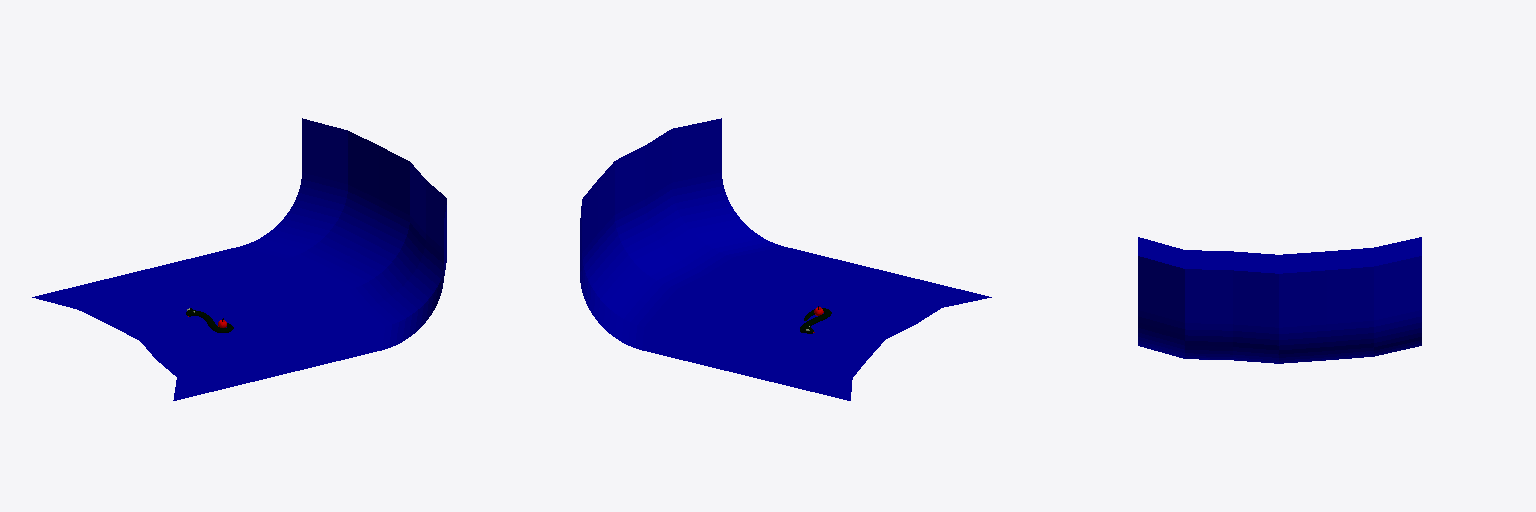
File: snake.obj
The picture shows the model from 3 angles: view 1: azimuth 30°, elevation 25°; view 2: azimuth 150°, elevation 25°; view 3: azimuth 270°, elevation 25°; orthographic projection.
Visible parts, largest first — view 1: Plane; view 2: Plane; view 3: Plane.
Boxes of the visible parts, x1=… form: Plane: x1=32, y1=118, x2=446, y2=400; Plane: x1=580, y1=118, x2=991, y2=400; Plane: x1=1138, y1=237, x2=1421, y2=363.
Bounding box in the file's own units: 24.99 × 8.89 × 20.